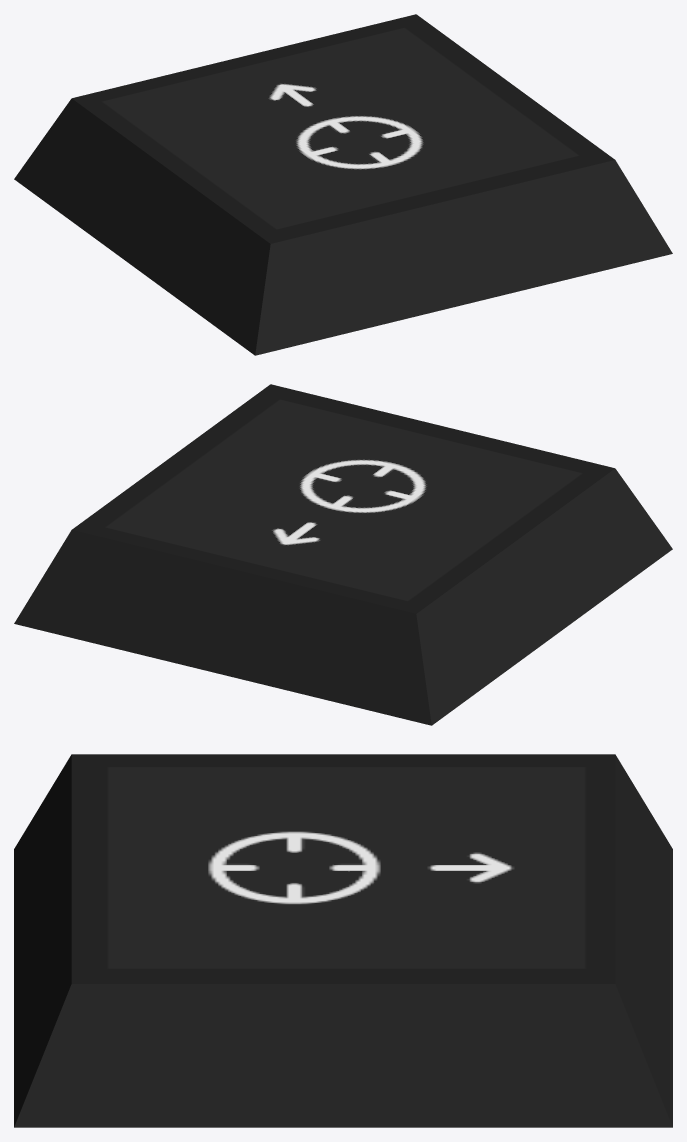
File: place.glb
3 renders of one model, top to bottom at view 1: azimuth 30°, elevation 25°; view 2: azimuth 150°, elevation 25°; view 3: azimuth 270°, elevation 25°, orthographic. The views are drawn at different scales.
Visible parts, largest first — view 1: Destination; view 2: Destination; view 3: Destination.
Part boxes in pixels (x1=…): Destination: x1=14, y1=14, x2=672, y2=355; Destination: x1=14, y1=384, x2=672, y2=725; Destination: x1=14, y1=754, x2=672, y2=1127.
Size of the model in its own units: 1 by 0.2 by 1.
Materials: 1 (1 with a texture image).
